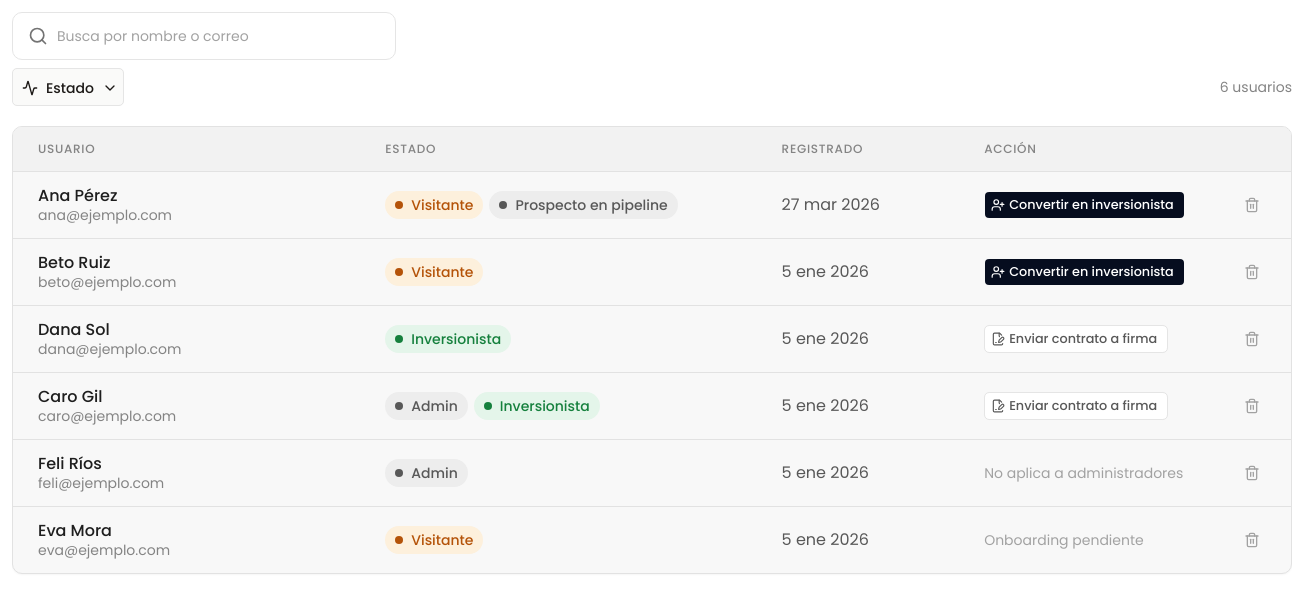
it: search and filter › keeps the owner under BOTH the admin and the investor filter
Click the button "Estado": point(68, 87) [12,68,124,106]
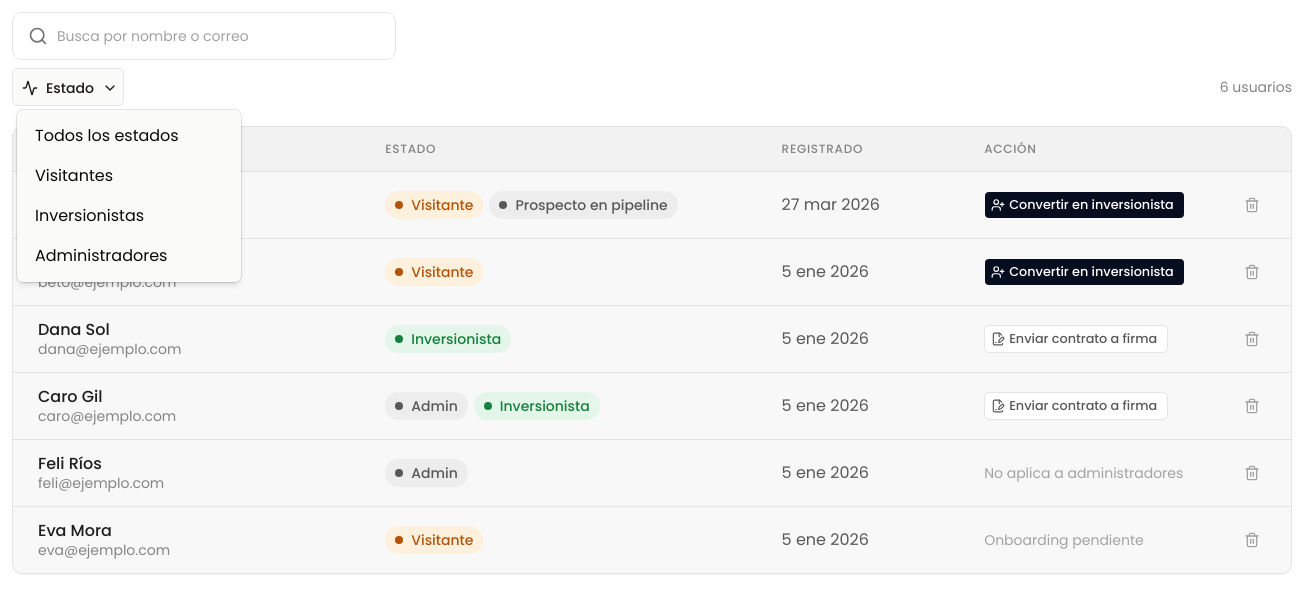
Click the menu item "Administradores": point(101, 256) [35,244,168,267]
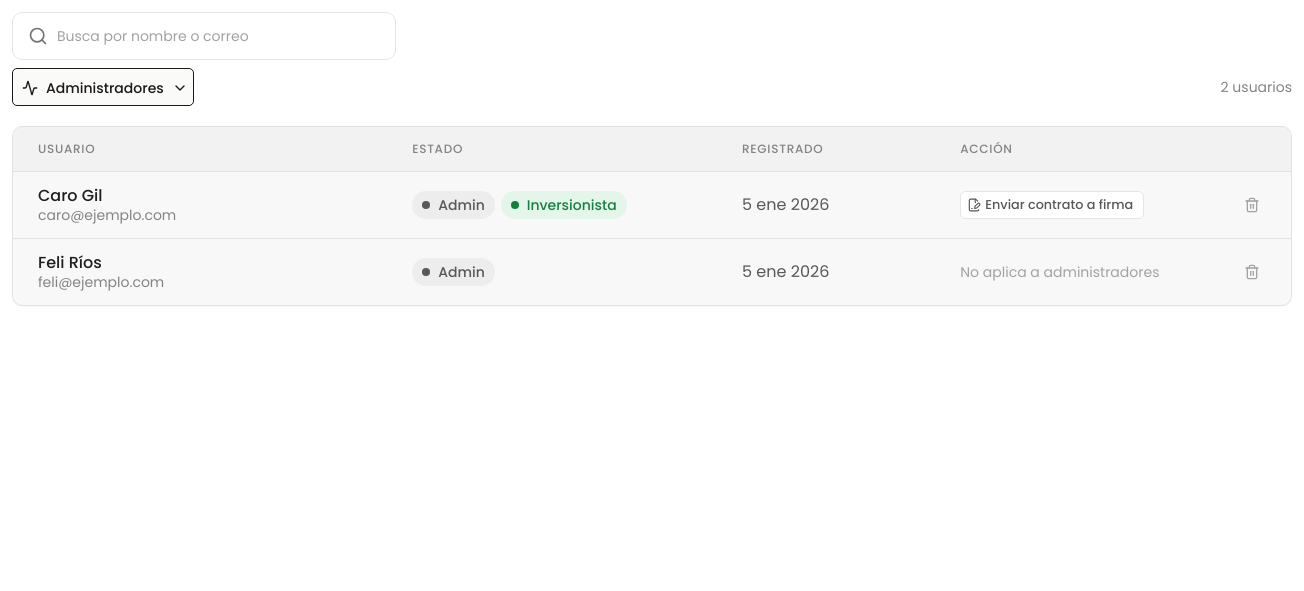
Expected: the text "Caro Gil" is shown, [38,184,102,207]
Now the text "Dana Sol" is gone
Click the button with aria-label "Estado": point(103, 87) [12,68,194,106]
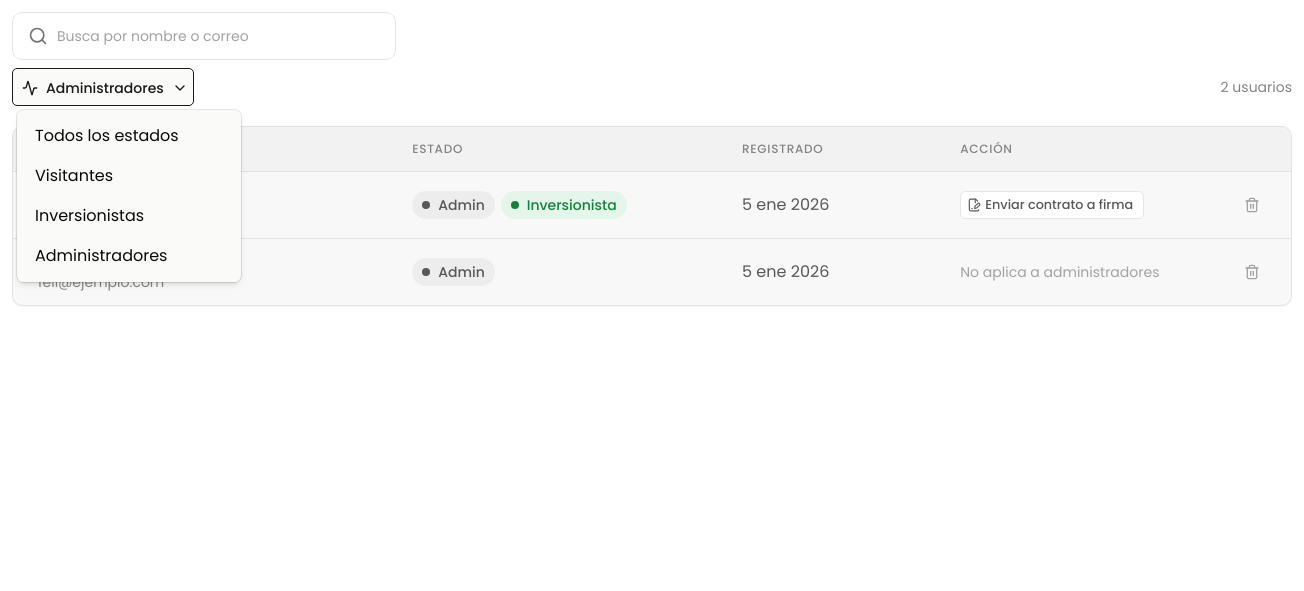
Click the menu item "Inversionistas": point(90, 216) [35,204,144,227]
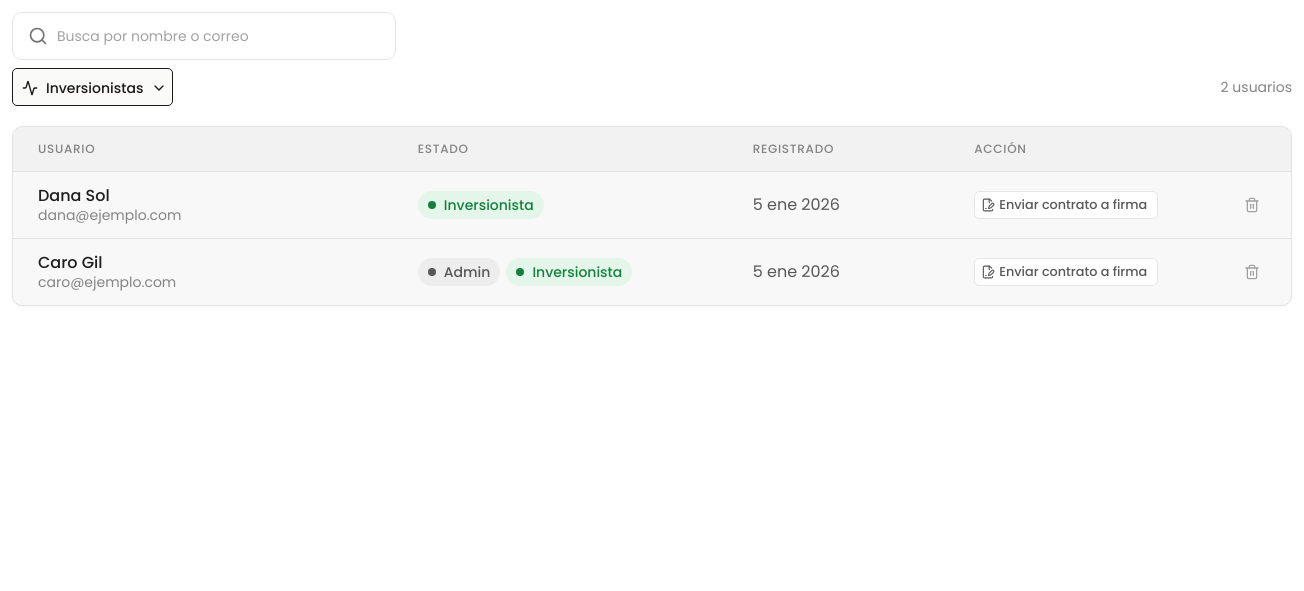
Expected: the text "Caro Gil" is shown, [38,251,102,274]
Now the text "Dana Sol" is shown, box [38,184,110,207]
